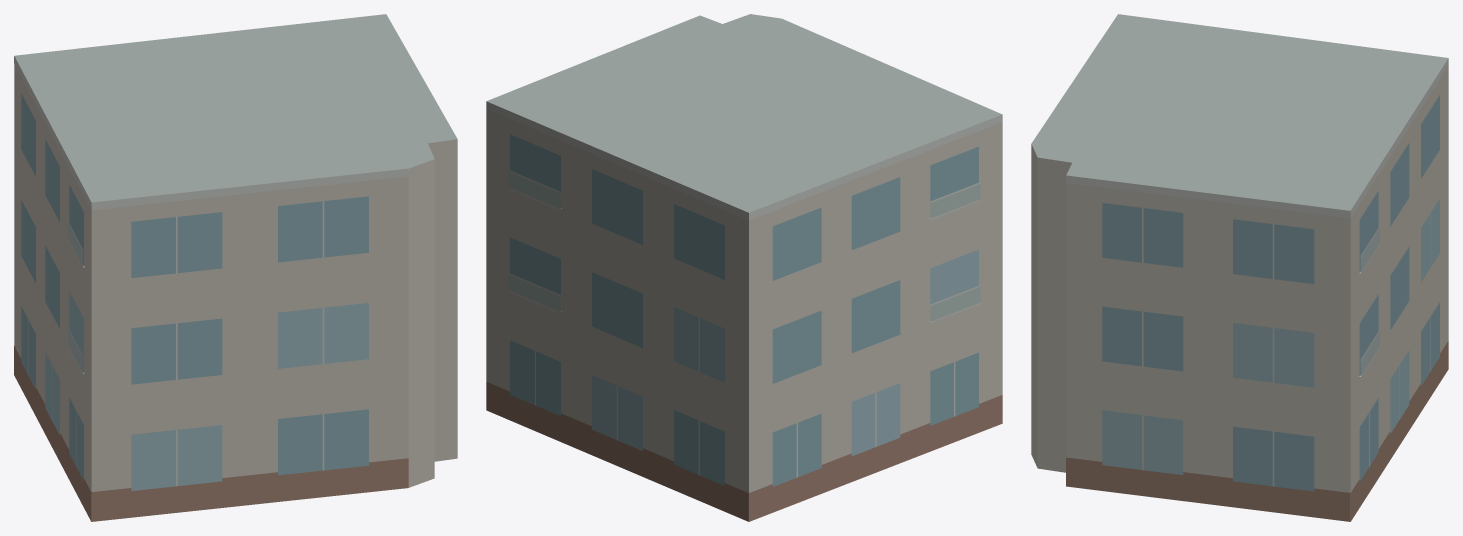
File: survey-upis-32543013.glb
The picture shows the model from 3 angles, left to right: view 1: azimuth 30°, elevation 25°; view 2: azimuth 150°, elevation 25°; view 3: azimuth 270°, elevation 25°; orthographic projection. The views are drawn at different scales.
Parts seen in each view (by area): view 1: survey-upis-32543013.tmp; view 2: survey-upis-32543013.tmp; view 3: survey-upis-32543013.tmp.
Part boxes in pixels (left/top/right/bottom): survey-upis-32543013.tmp: left=14, top=14, right=457, bottom=521; survey-upis-32543013.tmp: left=486, top=14, right=1002, bottom=521; survey-upis-32543013.tmp: left=1031, top=14, right=1448, bottom=521.
Size of the model in its own units: 13.72 by 10.1 by 12.29.
